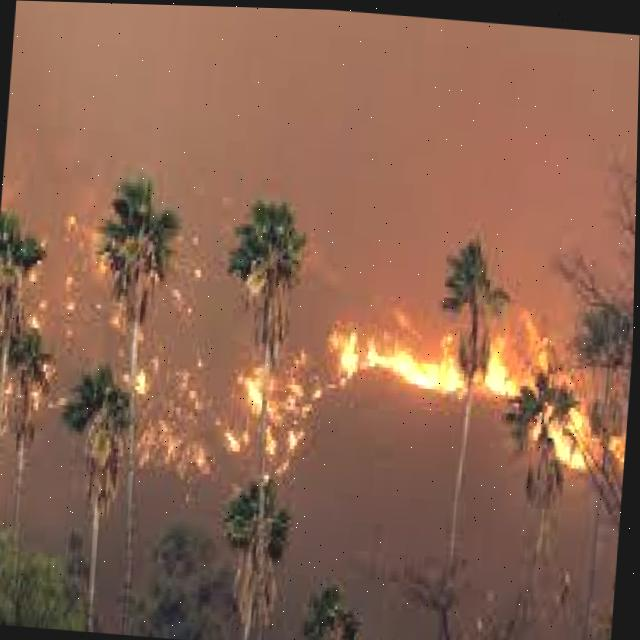fire: (335, 310, 535, 406)
smoke: (3, 0, 640, 245)
